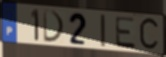1: (30, 8, 40, 43)
2: (68, 11, 89, 48)
C: (138, 16, 161, 53)
D: (42, 9, 67, 44)
E: (114, 16, 138, 50)
I: (99, 14, 107, 49)
